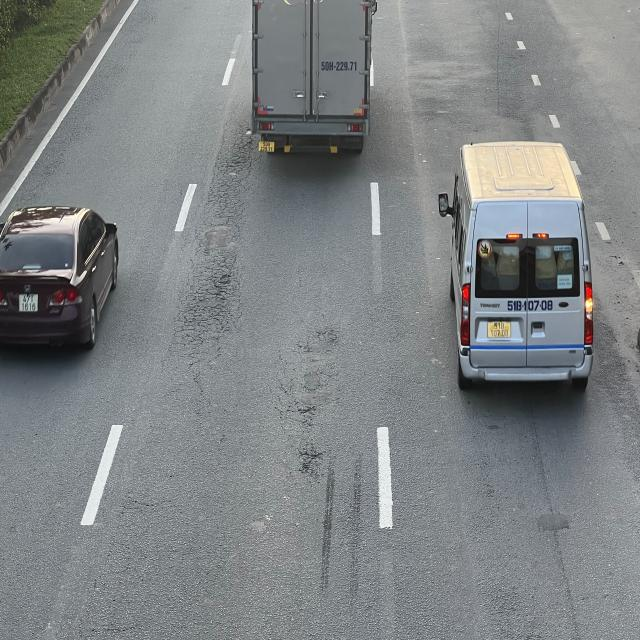car: (2, 206, 123, 354)
truck: (249, 2, 377, 161)
van: (440, 144, 598, 395)
